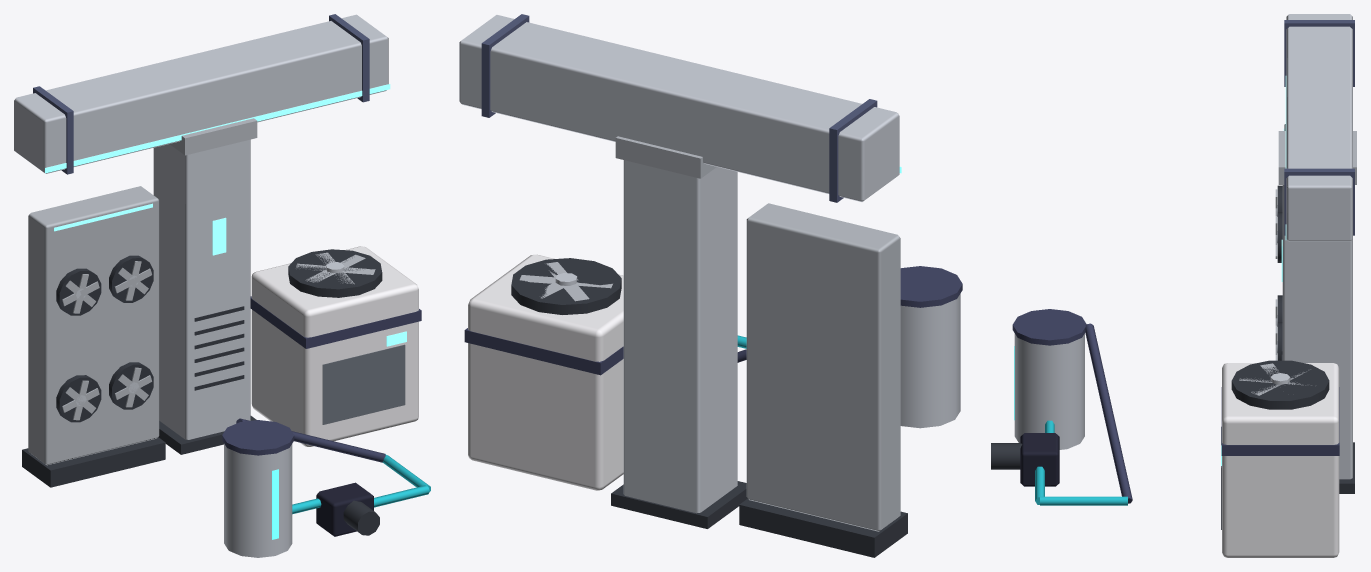
The model's file is station_transport_2.glb.
3 renders of one model, left to right at view 1: azimuth 30°, elevation 25°; view 2: azimuth 150°, elevation 25°; view 3: azimuth 270°, elevation 25°, orthographic. The views are drawn at different scales.
Visible parts, largest first — view 1: station_transport_2; view 2: station_transport_2; view 3: station_transport_2.
Boxes of the visible parts, x1=… form: station_transport_2: x1=14, y1=14, x2=430, y2=557; station_transport_2: x1=459, y1=14, x2=962, y2=557; station_transport_2: x1=991, y1=14, x2=1356, y2=557.
Bounding box in the file's own units: 2.1 × 2.13 × 1.87.
